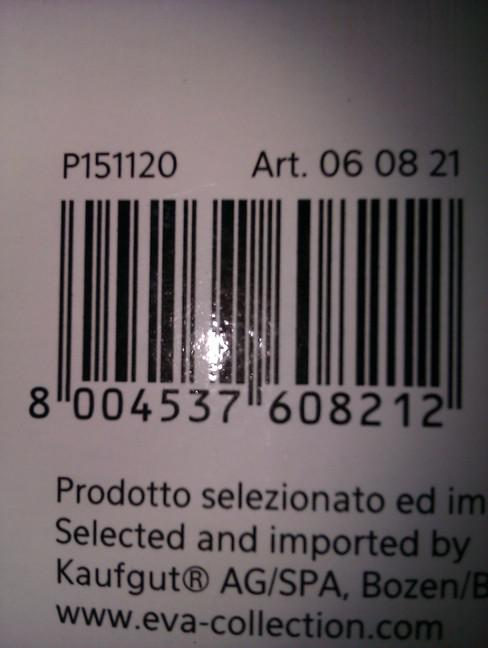Barkod: (14, 185, 475, 425)
